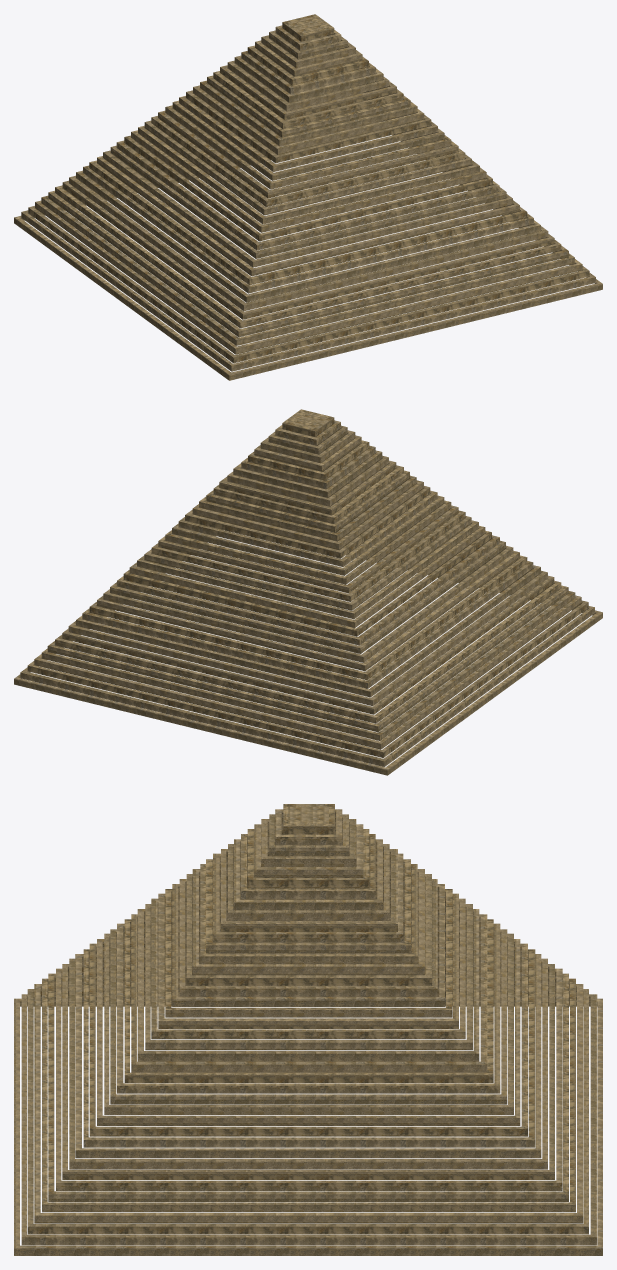
The model's file is menkaure_pyramid.gltf.
The picture shows the model from 3 angles, top to bottom: view 1: azimuth 30°, elevation 25°; view 2: azimuth 150°, elevation 25°; view 3: azimuth 270°, elevation 25°; orthographic projection. The views are drawn at different scales.
Parts seen in each view (by area): view 1: menkaure_pyramid; view 2: menkaure_pyramid; view 3: menkaure_pyramid.
Part boxes in pixels (box(x1,y1,x2,y2)): menkaure_pyramid: box(14, 14, 602, 380); menkaure_pyramid: box(14, 409, 602, 775); menkaure_pyramid: box(14, 804, 602, 1255).
Bounding box in the file's own units: 103 × 61 × 103.
Materials: 1 (1 with a texture image).
